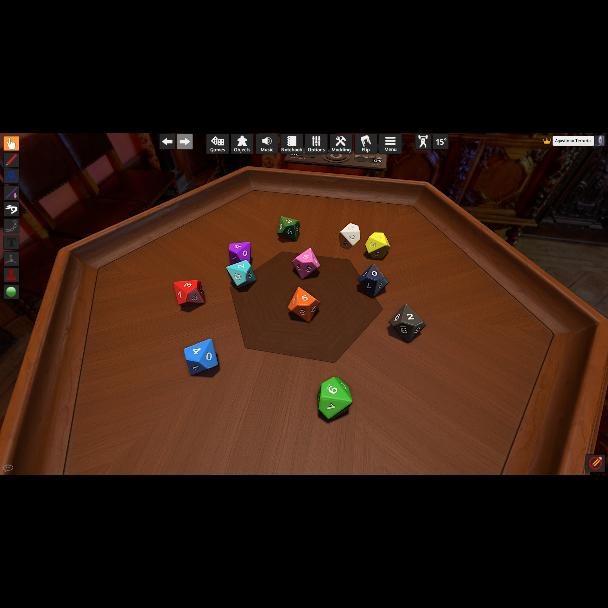d10: (318, 377, 350, 419), (388, 305, 421, 343), (184, 338, 218, 374), (288, 288, 318, 323), (356, 264, 386, 296), (292, 248, 318, 280), (228, 260, 256, 288), (174, 280, 204, 306), (364, 232, 390, 260), (229, 241, 251, 266), (278, 217, 300, 241), (339, 223, 359, 247)
